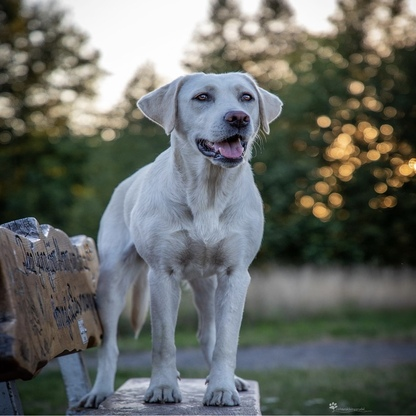labrado: (85, 66, 286, 416)
